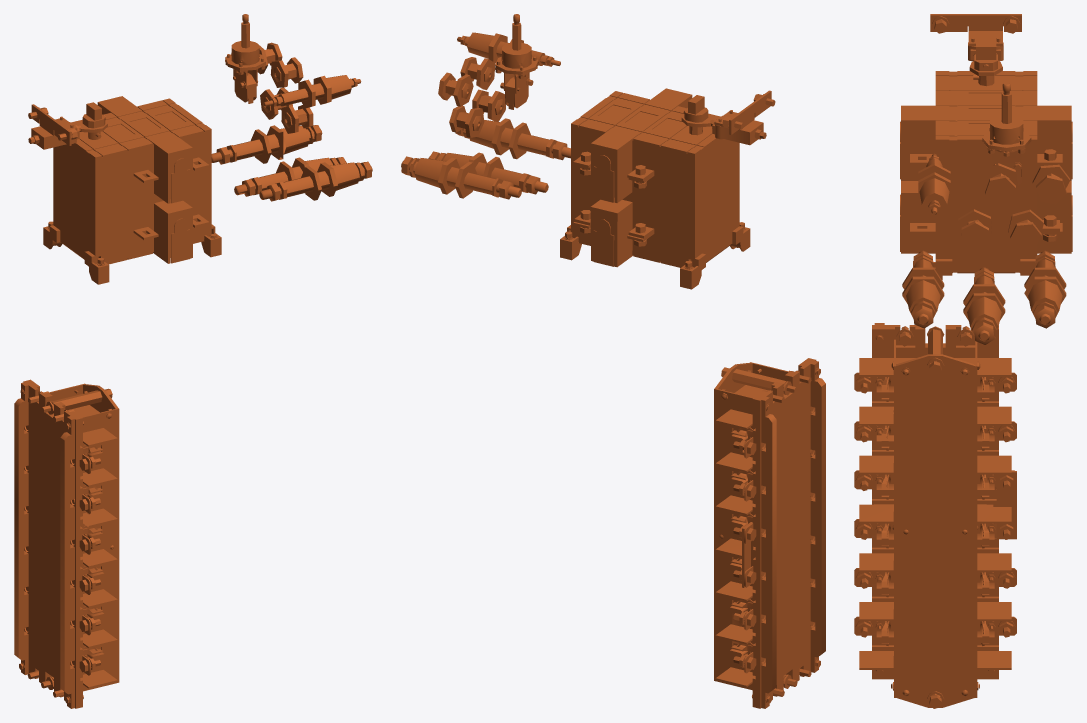
The model's file is Детали 1.fbx.
3 renders of one model, left to right at view 1: azimuth 30°, elevation 25°; view 2: azimuth 150°, elevation 25°; view 3: azimuth 270°, elevation 25°, orthographic. The views are drawn at different scales.
Visible parts, largest first — view 1: Object030; view 2: Object030; view 3: Object030.
Boxes of the visible parts, left/top/right/bottom form: Object030: left=14, top=14, right=372, bottom=708; Object030: left=401, top=14, right=825, bottom=708; Object030: left=854, top=14, right=1072, bottom=708.
Size of the model in its own units: 449 by 788 by 215.
